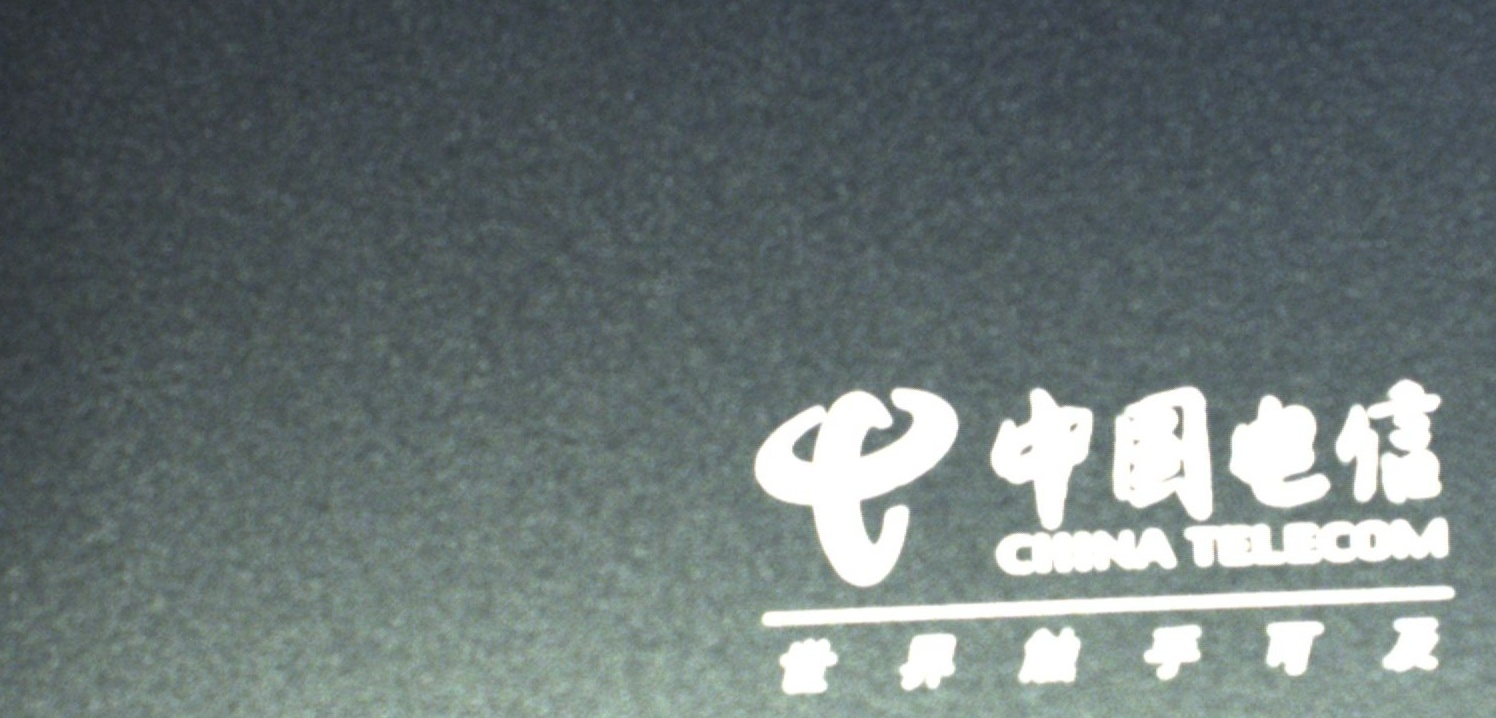AB_ChinaTelecom: (748, 384, 1455, 703)
